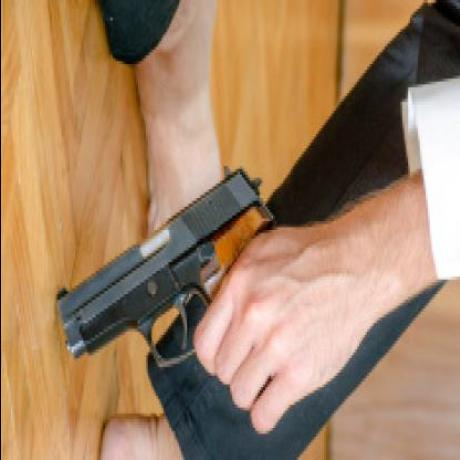1: (95, 0, 460, 460)
weapon: (52, 166, 288, 399)
